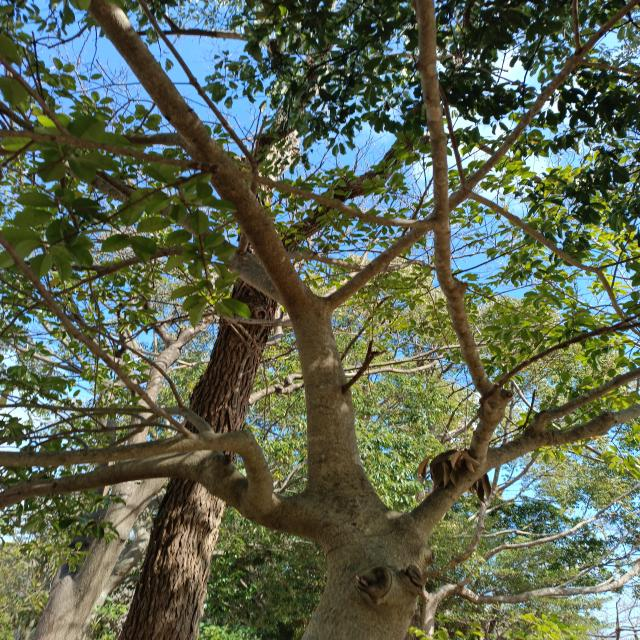Branch: (89, 0, 311, 305), (0, 444, 320, 549), (2, 429, 275, 498), (286, 293, 370, 508), (406, 455, 482, 542)
Twig: (328, 1, 640, 308), (419, 0, 511, 462), (2, 131, 427, 226), (1, 238, 193, 433), (468, 192, 640, 334), (491, 404, 638, 472), (527, 369, 640, 434), (109, 407, 213, 446), (8, 406, 148, 412)
